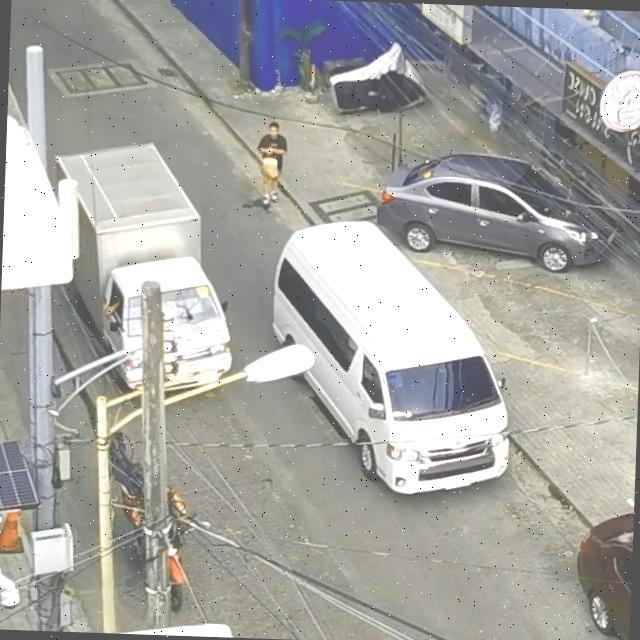Truck: (28, 107, 266, 428)
